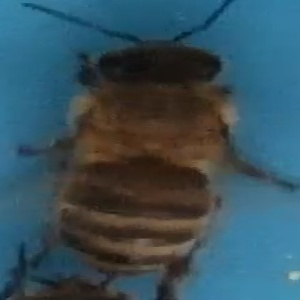bee: (52, 32, 290, 278)
